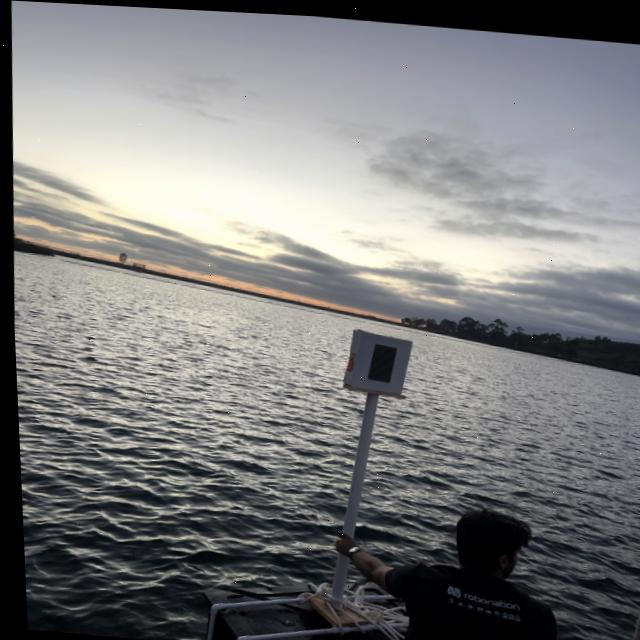led: (353, 335, 407, 392)
